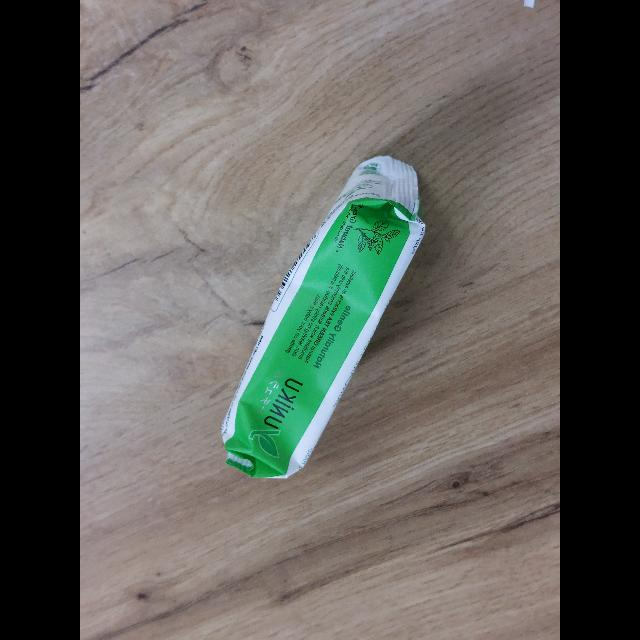khan_giay: (222, 156, 425, 478)
